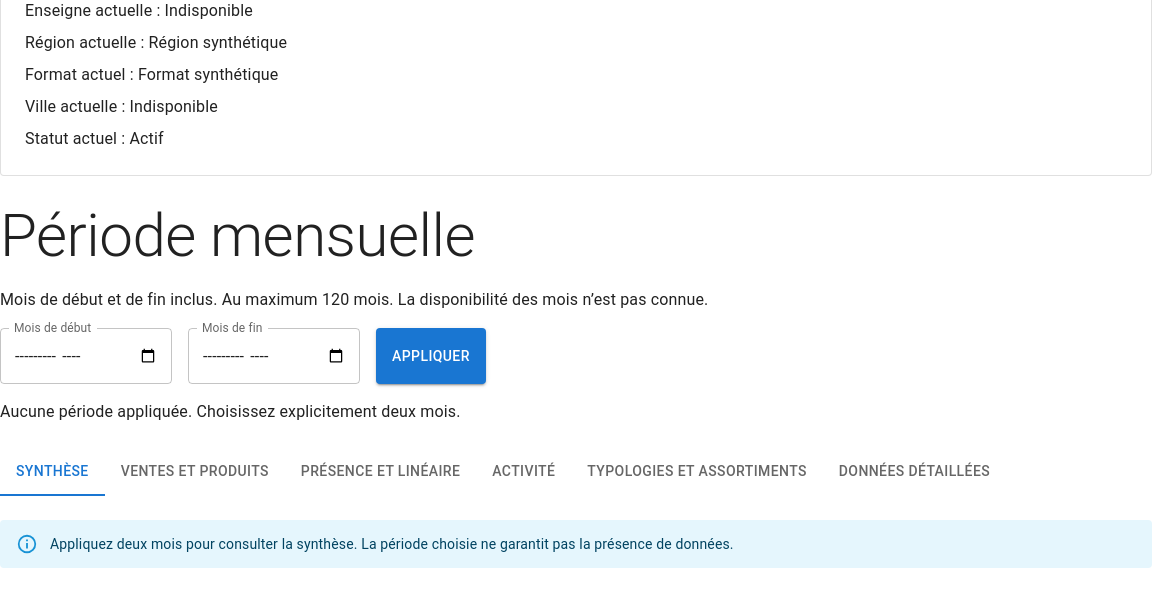
Test: does not display reference values from an inconsistent store lookup
Click the tab "Données détaillées" at (914,472), box [823,448,1006,496]
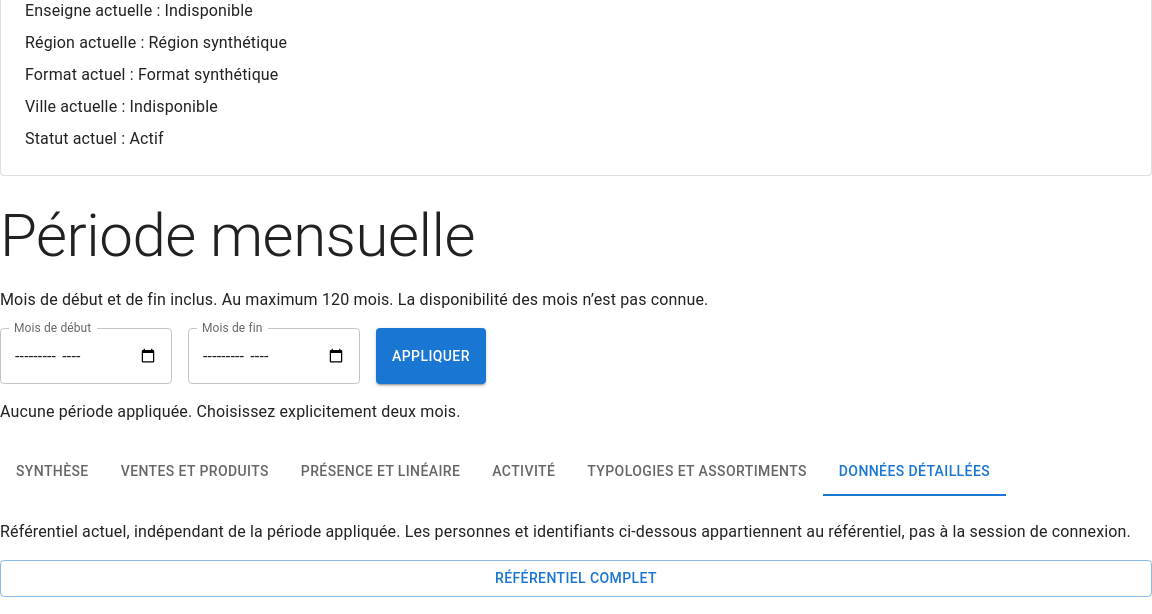
Click the button "Référentiel complet" at (576,578), box [0,560,1151,596]
(page scrolled)
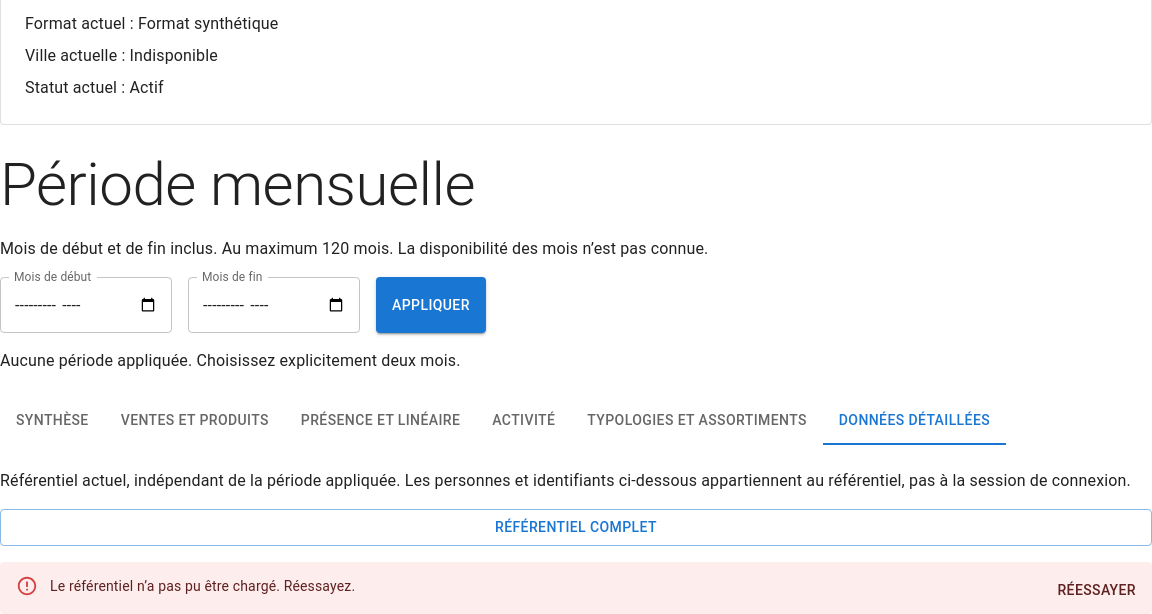
Now the message "Le référentiel n’a pas pu être chargé. Réessayez. Réessayer" is shown, box [0,562,1151,613]
